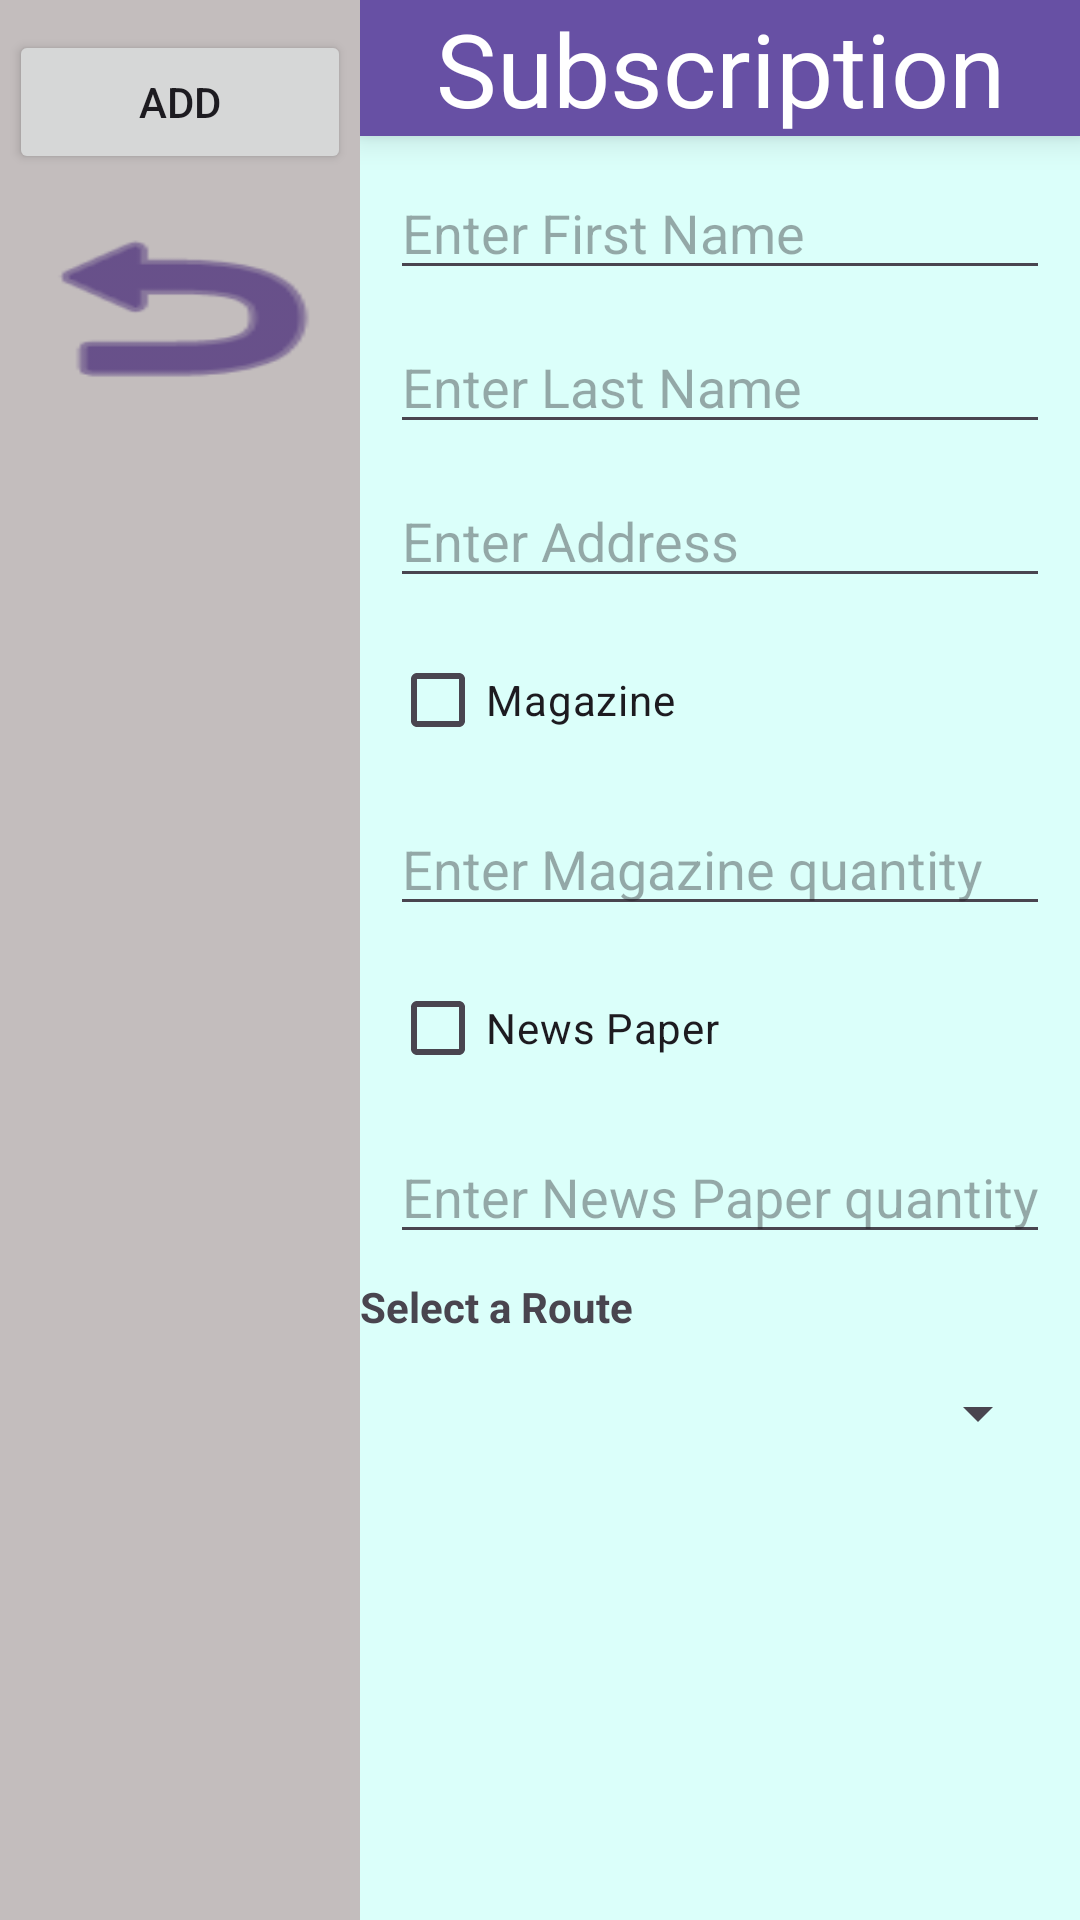

Screen size 1080 x 1920. Icon name, then its box in pixels as (x1=x1, y1=y1, x2=x2, y2=y2):
revert: (x1=61, y1=242, x2=308, y2=376)
